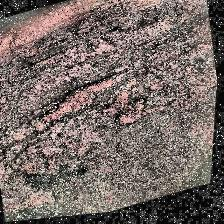pothole: (34, 64, 138, 130), (113, 97, 153, 132)
